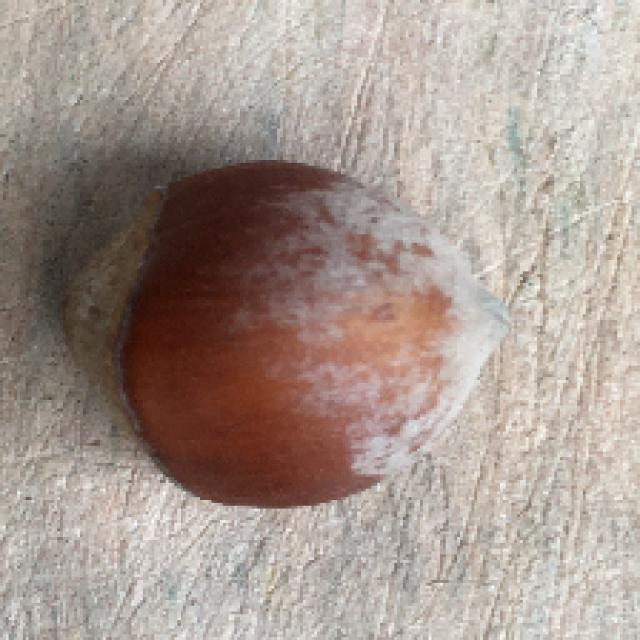QualityHazelnut: (56, 155, 515, 516)
